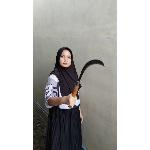Celurit: (66, 57, 107, 110)
